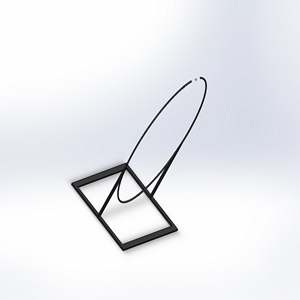circle: (71, 76, 208, 252)
